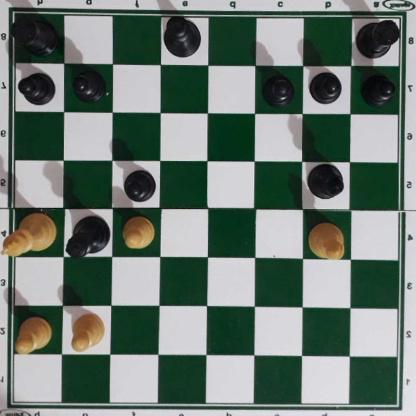black-bishop: (305, 162, 348, 198)
black-king: (164, 14, 204, 58)
black-pawn: (20, 69, 57, 105), (73, 68, 108, 102), (363, 71, 396, 104), (124, 167, 156, 201), (312, 70, 343, 104), (264, 71, 295, 105)
black-queen: (65, 211, 110, 260)
black-rook: (355, 15, 403, 58), (11, 14, 58, 55)
white-bishop: (309, 223, 346, 259)
white-king: (3, 213, 58, 256)
white-pawn: (70, 311, 107, 351), (16, 315, 53, 353), (122, 213, 156, 248)
